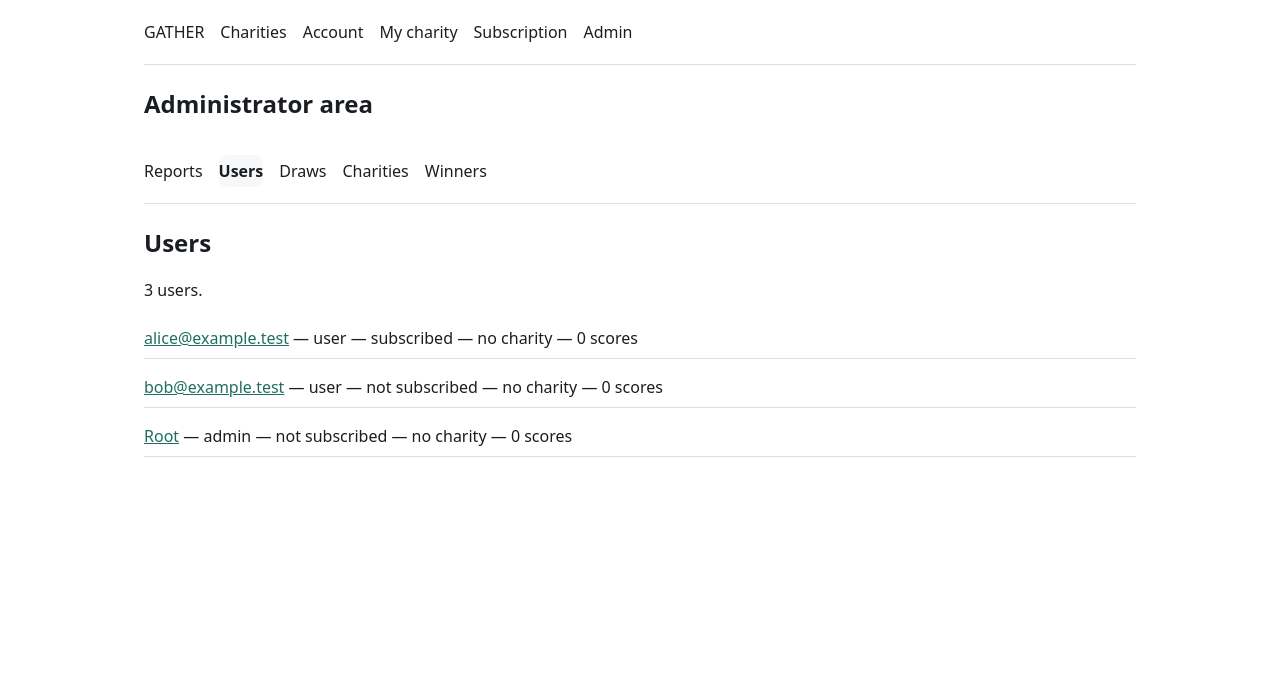
Scenario: Admin user management (PRD §11 ADM-01) › shows subscription as READ-ONLY — no admin action can set it manually
Step 1. Click the link "alice@example.test" → (216, 338), box [144, 327, 289, 349]
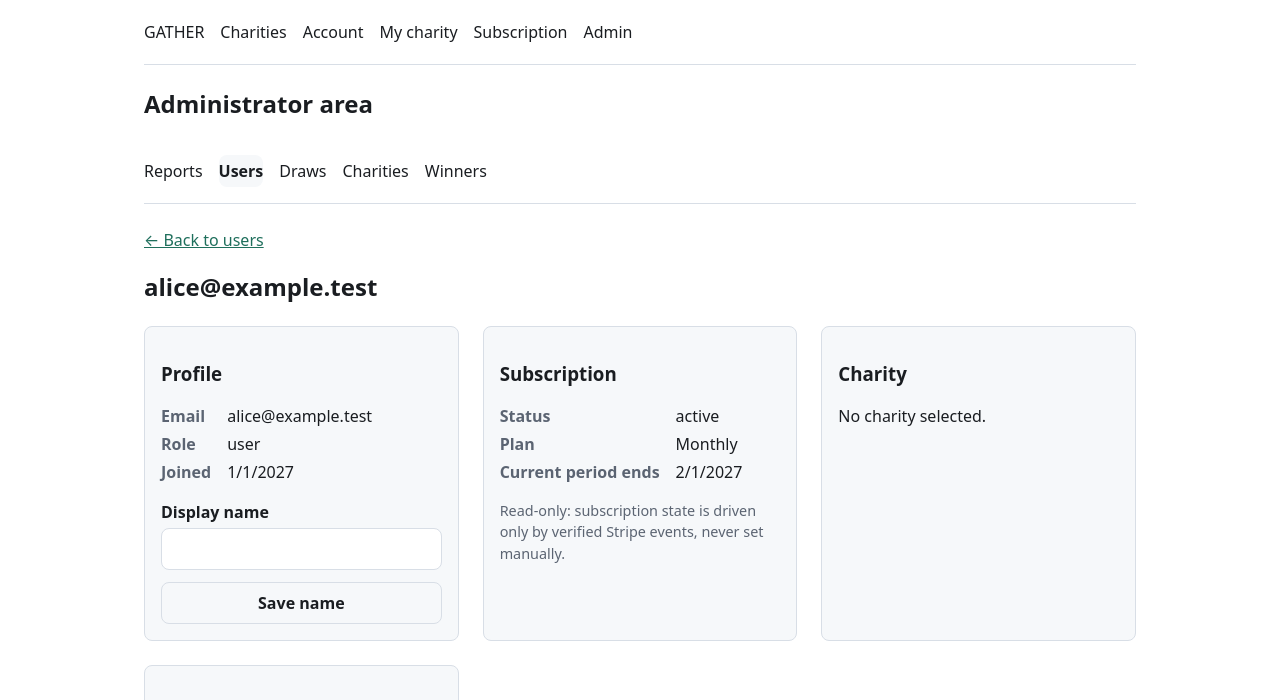
Expected: the text "Read-only: subscription state" is shown, [500, 501, 764, 563]
